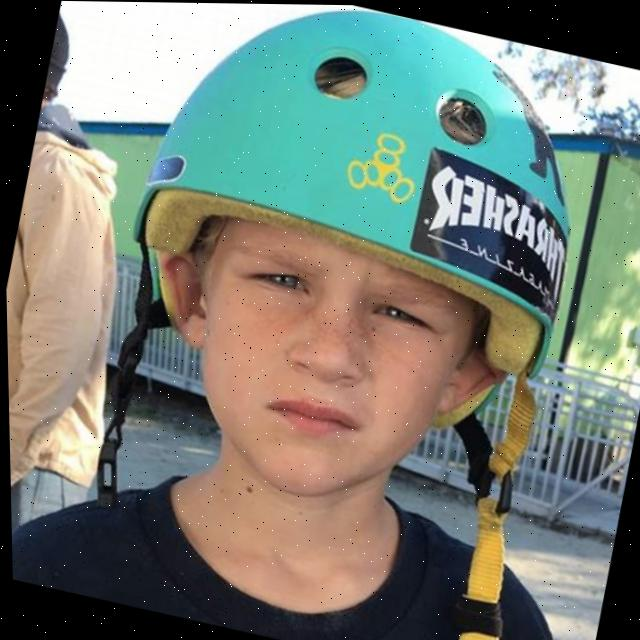illegal_helmet: (48, 1, 631, 614)
